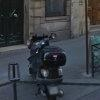Motorcycle: (21, 26, 72, 100)
